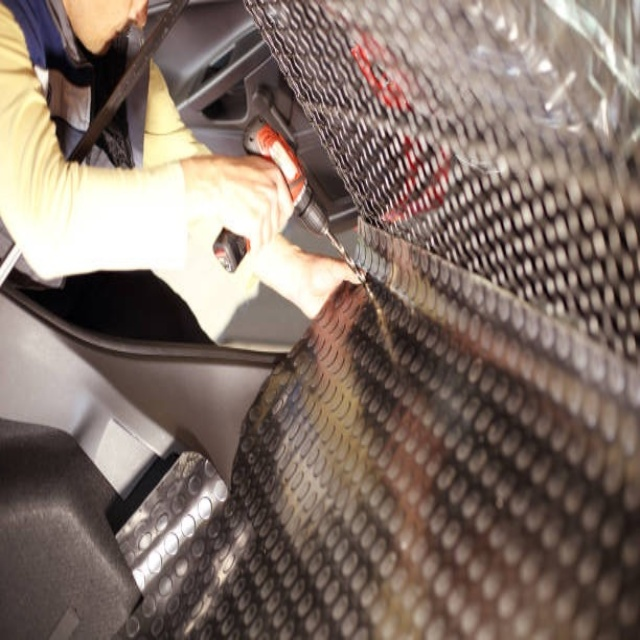Sin_guantes: (190, 153, 299, 272), (251, 231, 361, 322)
Sin_mascara: (120, 19, 141, 47)
